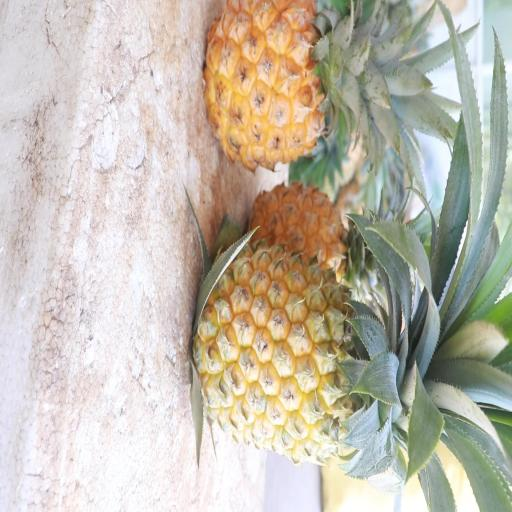Pineapple - v8 v1: (189, 239, 443, 469), (200, 0, 383, 176), (243, 173, 376, 294)
